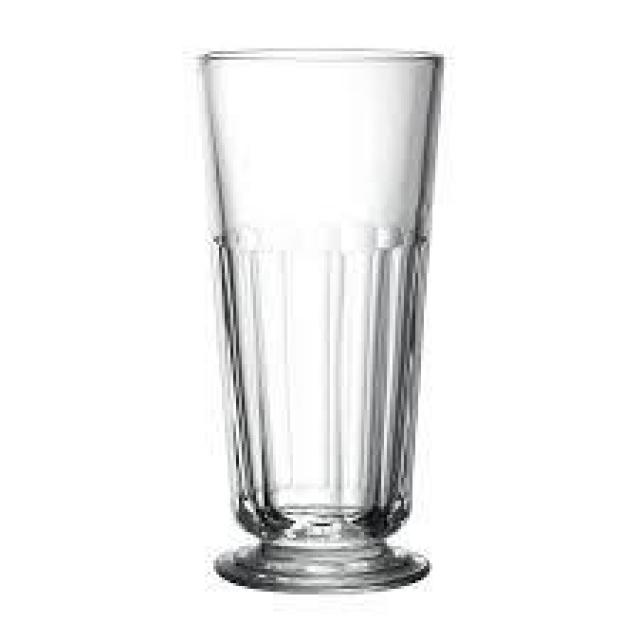non-organic waste: (199, 47, 447, 593)
